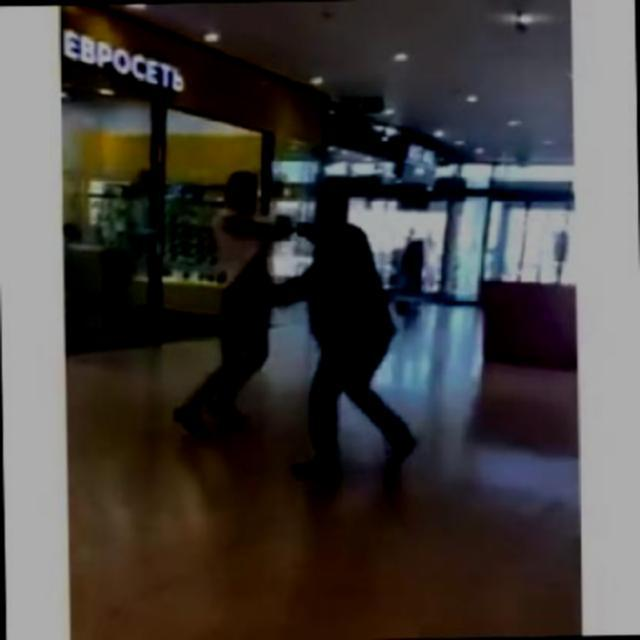fight: (204, 165, 406, 484)
